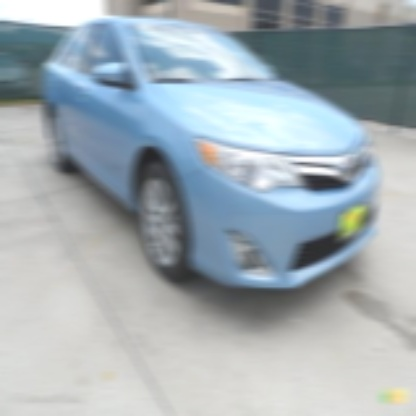Vehicle: (40, 14, 382, 295)
